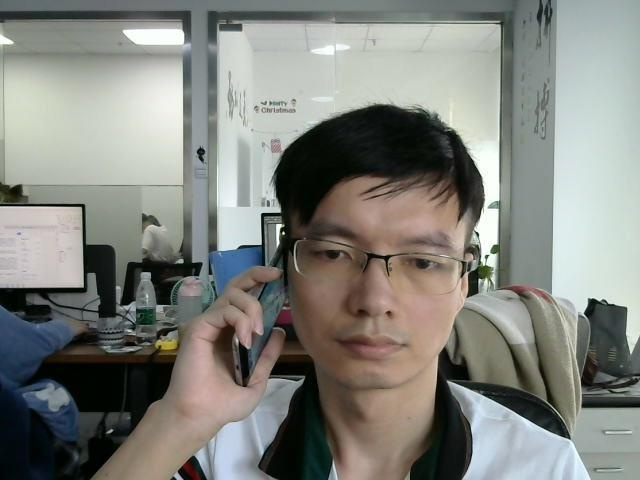hand: (187, 265, 287, 415)
